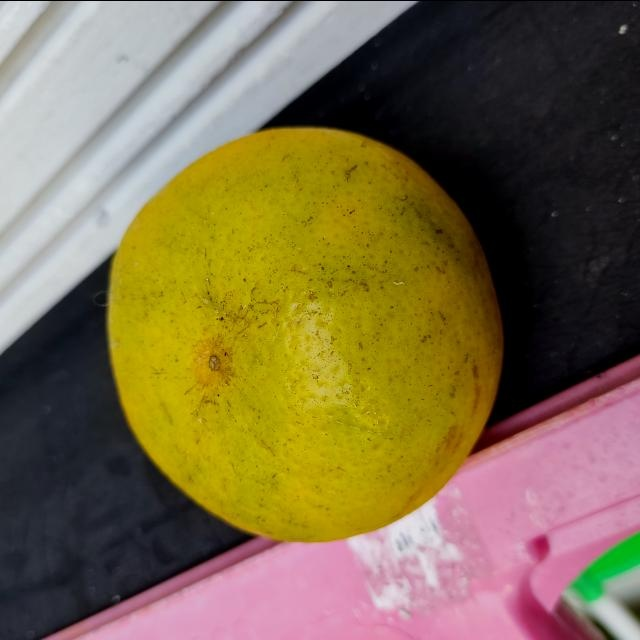agrume: (104, 124, 508, 546)
